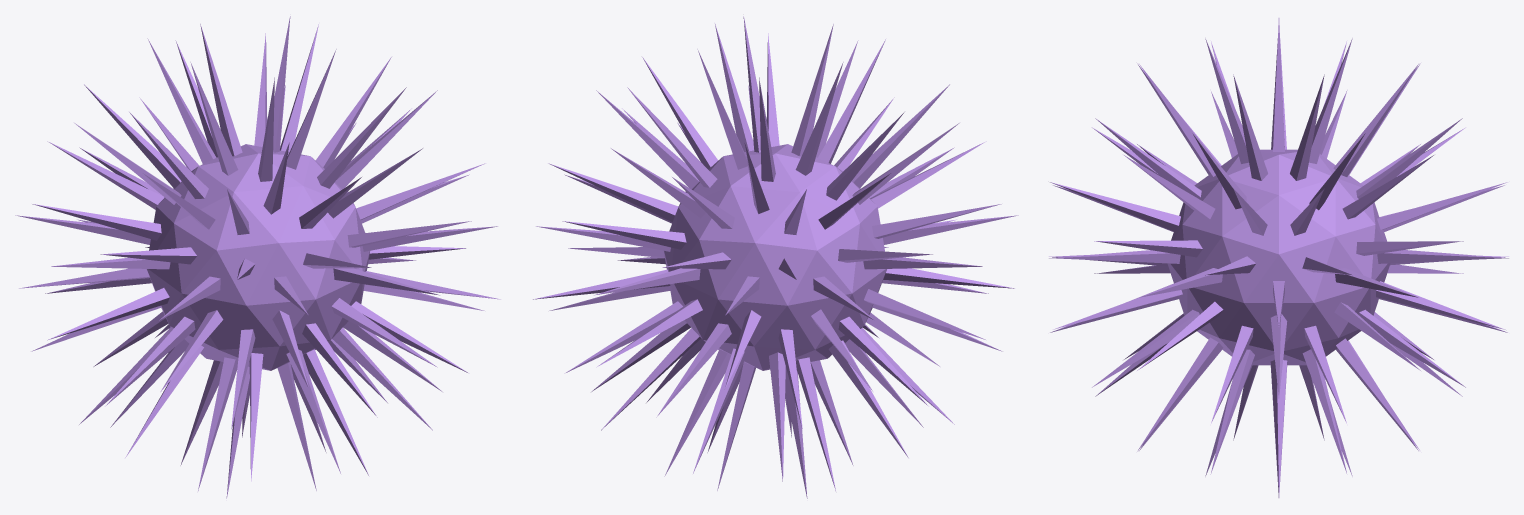
Rendered from urchins.glb.
3 views of the same model, side by side, from view 1: azimuth 30°, elevation 25°; view 2: azimuth 150°, elevation 25°; view 3: azimuth 270°, elevation 25° (orthographic).
Visible parts, largest first — view 1: Urchinspike (×58), UrchinBody; view 2: Urchinspike (×56), UrchinBody; view 3: Urchinspike (×37), UrchinBody.
Part boxes in pixels (left/top/right/bottom): Urchinspike (×58): left=15, top=16, right=500, bottom=498; UrchinBody: left=147, top=144, right=369, bottom=370; Urchinspike (×56): left=532, top=16, right=1018, bottom=498; UrchinBody: left=664, top=144, right=886, bottom=370; Urchinspike (×37): left=1049, top=18, right=1508, bottom=492; UrchinBody: left=1167, top=149, right=1390, bottom=365.
Size of what is drawn, in the model's own units: 4.28 by 4.1 by 4.07.
